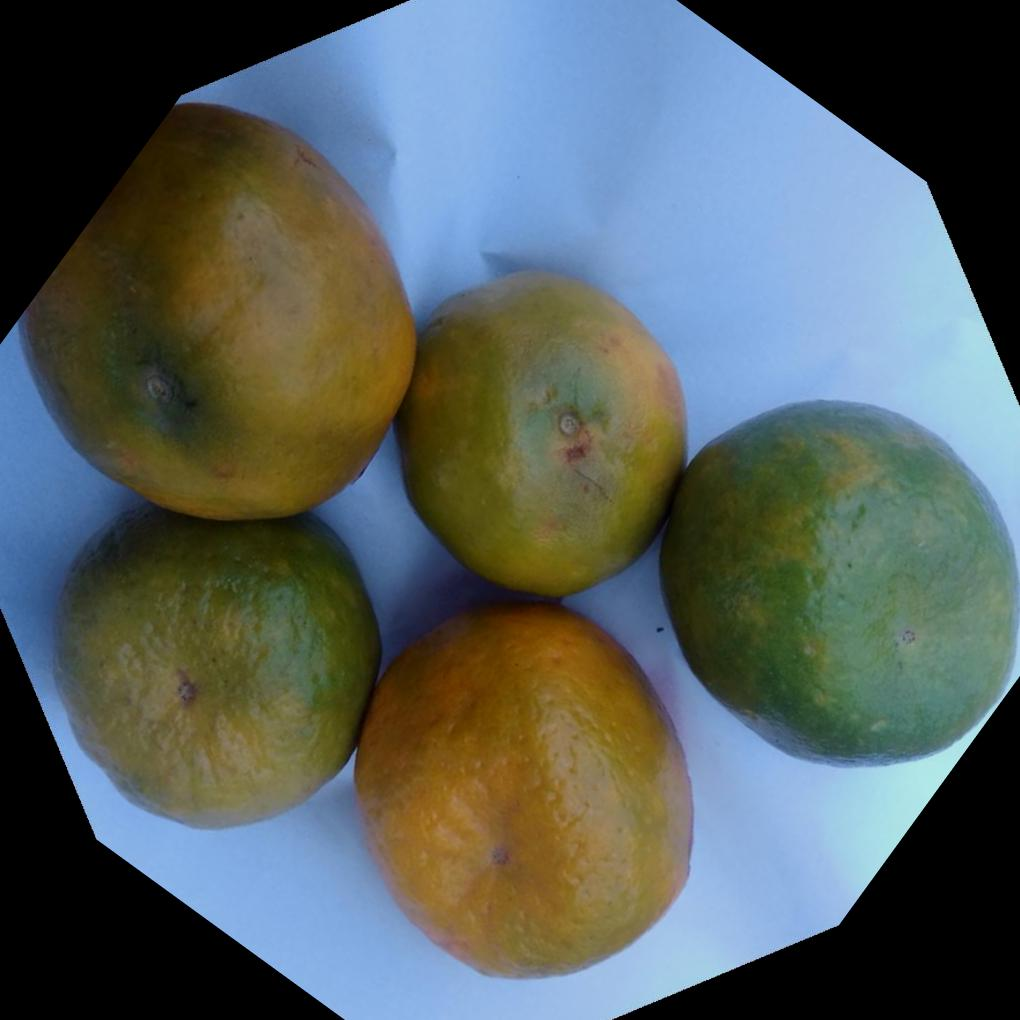FreshGuava: (14, 101, 1020, 988)
